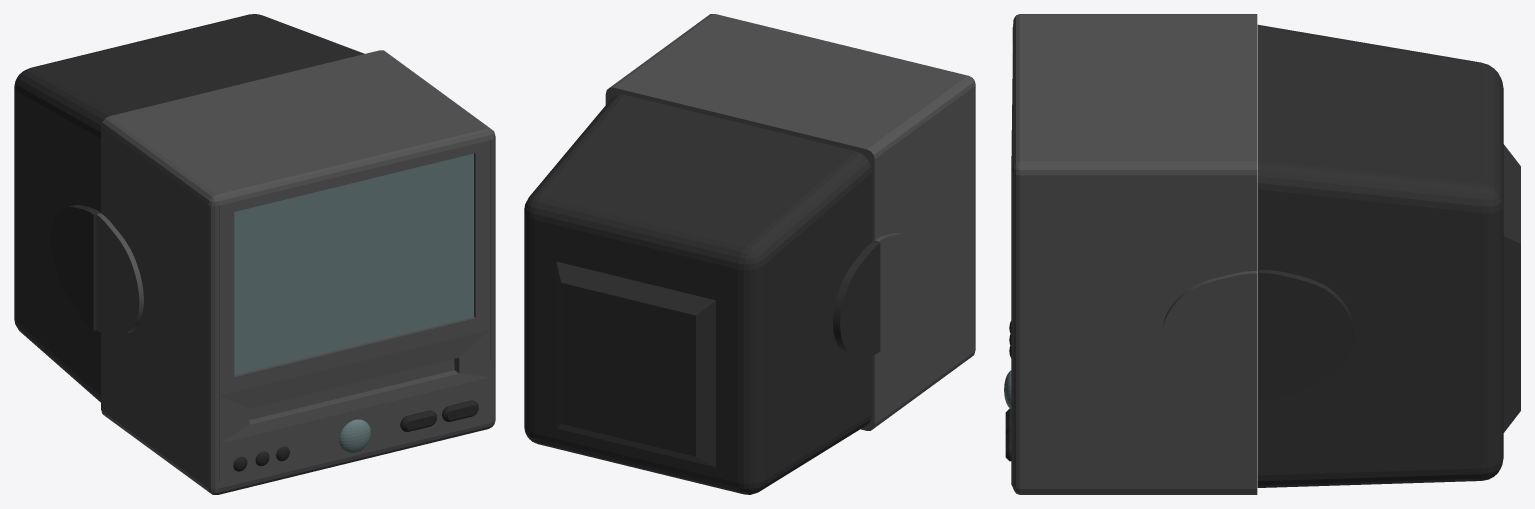
3 renders of one model, left to right at view 1: azimuth 30°, elevation 25°; view 2: azimuth 150°, elevation 25°; view 3: azimuth 270°, elevation 25°, orthographic. The views are drawn at different scales.
Visible parts, largest first — view 1: 立方体.001, 立方体, 円.005, 円.004, 球, 円.007, 円.008; view 2: 立方体, 立方体.001, 円.004, 円.005; view 3: 立方体.001, 立方体, 円.001, 円.
Boxes of the visible parts, left/top/right/bottom form: 立方体.001: left=101, top=50, right=495, bottom=494; 立方体: left=14, top=14, right=364, bottom=402; 円.005: left=96, top=213, right=143, bottom=335; 円.004: left=50, top=205, right=100, bottom=330; 球: left=339, top=419, right=370, bottom=453; 円.007: left=442, top=400, right=478, bottom=421; 円.008: left=400, top=410, right=436, bottom=431; 立方体: left=524, top=94, right=871, bottom=494; 立方体.001: left=605, top=14, right=975, bottom=430; 円.004: left=833, top=241, right=880, bottom=356; 円.005: left=872, top=233, right=919, bottom=348; 立方体.001: left=1011, top=14, right=1257, bottom=494; 立方体: left=1257, top=24, right=1520, bottom=487; 円.001: left=1259, top=270, right=1353, bottom=401; 円: left=1162, top=271, right=1257, bottom=401.
Size of the model in its own units: 3.1 by 2.98 by 4.2.
